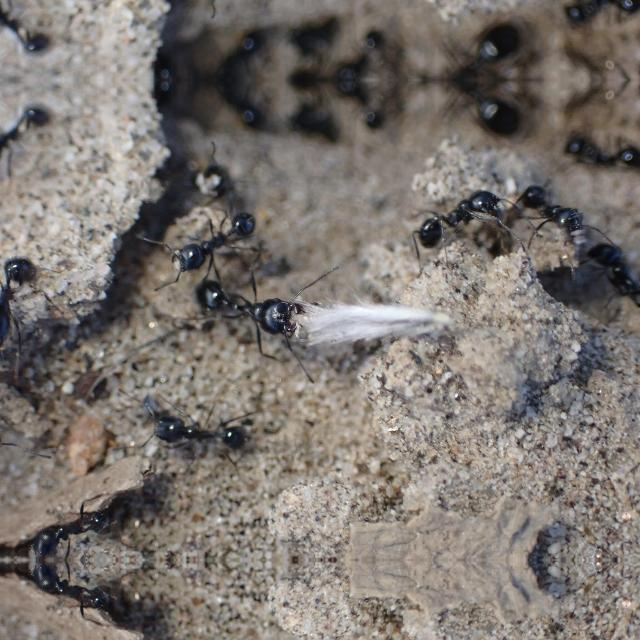Messor: (396, 180, 510, 268), (188, 268, 312, 348), (169, 200, 257, 286), (403, 15, 519, 80), (403, 80, 519, 144), (29, 486, 129, 560), (29, 560, 129, 634), (143, 404, 263, 452), (547, 125, 639, 185), (516, 182, 586, 244), (582, 236, 640, 304), (547, 0, 639, 35)
